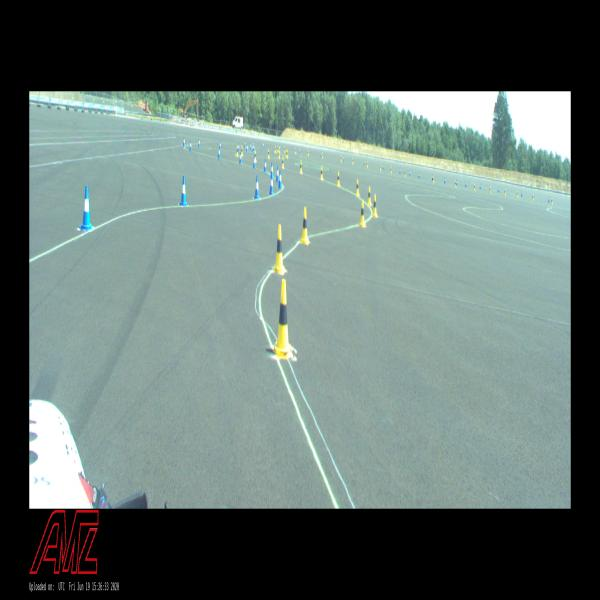blue_cone: (81, 186, 93, 229), (180, 176, 187, 205), (255, 176, 260, 198), (269, 173, 274, 194), (278, 170, 282, 188), (270, 162, 274, 178), (276, 166, 279, 181), (264, 158, 267, 172), (253, 154, 256, 168), (218, 147, 221, 158), (189, 140, 192, 151), (239, 152, 242, 163), (198, 138, 201, 148), (183, 137, 185, 146), (250, 142, 252, 150), (238, 143, 240, 151), (246, 144, 248, 151), (456, 179, 458, 186), (465, 181, 467, 187), (548, 196, 550, 202), (244, 141, 246, 147), (444, 177, 446, 183), (220, 141, 221, 149), (320, 152, 322, 156), (254, 144, 255, 151), (419, 172, 420, 178), (498, 186, 499, 192), (263, 142, 264, 148), (399, 168, 400, 174), (480, 183, 481, 189), (299, 148, 300, 154), (383, 164, 384, 169), (343, 156, 344, 161), (432, 175, 433, 180), (410, 170, 410, 176), (522, 191, 522, 196), (364, 159, 364, 165), (280, 145, 280, 150)
yellow_cone: (272, 280, 293, 357), (274, 225, 285, 272), (300, 208, 308, 242), (360, 200, 366, 225), (372, 194, 377, 216), (368, 186, 371, 205), (356, 179, 359, 195), (337, 171, 340, 186), (321, 167, 323, 179), (300, 161, 302, 173), (282, 157, 284, 168), (241, 146, 243, 156), (268, 150, 270, 158), (278, 152, 280, 159), (390, 167, 392, 173), (504, 189, 506, 195), (551, 198, 553, 204), (532, 194, 534, 200), (307, 150, 309, 156), (255, 150, 256, 162), (237, 146, 238, 156), (287, 150, 288, 158), (433, 176, 434, 183), (284, 146, 285, 153), (367, 161, 368, 168), (455, 180, 456, 187), (277, 145, 278, 152), (279, 147, 280, 154), (286, 150, 287, 157), (380, 164, 381, 170), (474, 184, 475, 190), (404, 170, 405, 176), (275, 146, 276, 152), (352, 158, 353, 164), (295, 148, 296, 154), (517, 191, 518, 197), (490, 187, 491, 193), (341, 156, 342, 162), (322, 153, 323, 158)
